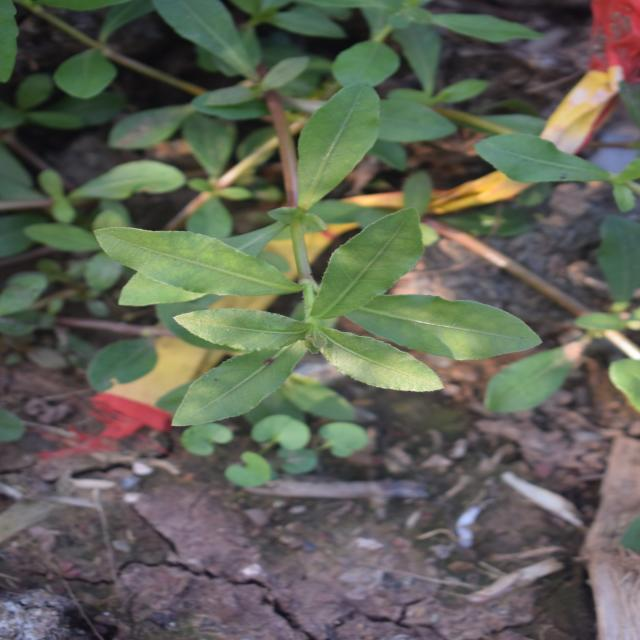Alligatorweed: (206, 87, 426, 534)
